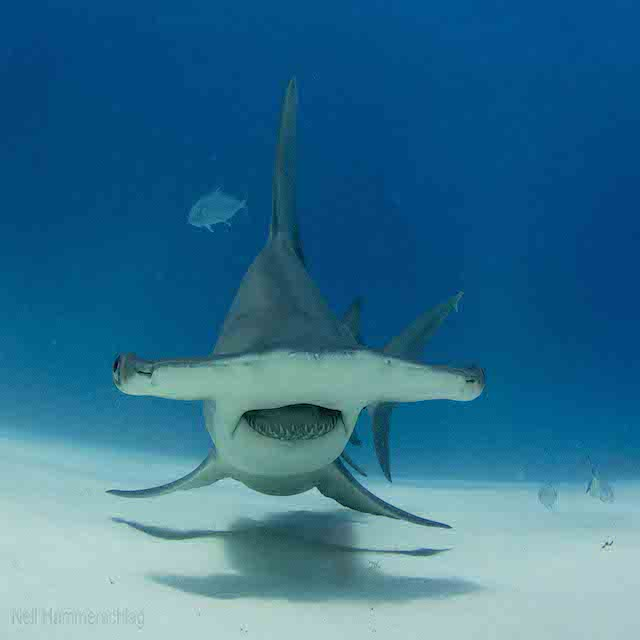hammerhead: (102, 297, 506, 479)
